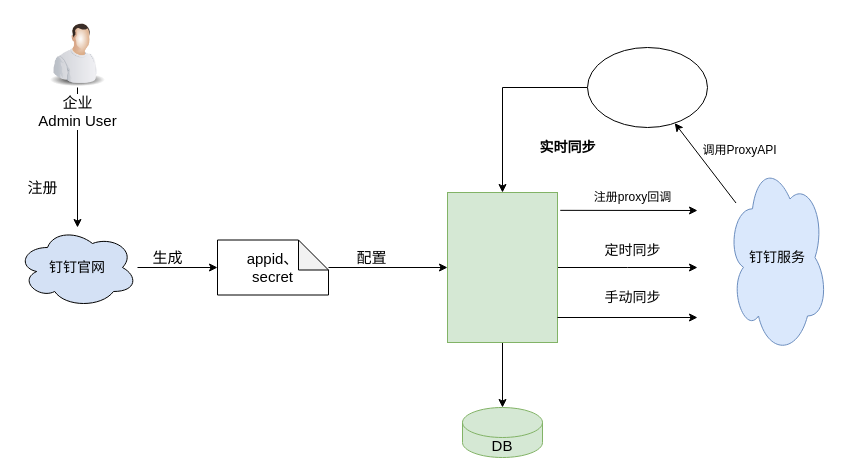
Some shapes in this 845 by 475 pixel diagram are drawn without their labels. The shapes that lost their labels are listed below. From the top down, each one's centre as x and y in pixels, then its label:
At [647,87]: "Proxy".
At [502,267]: "云流Admin".
